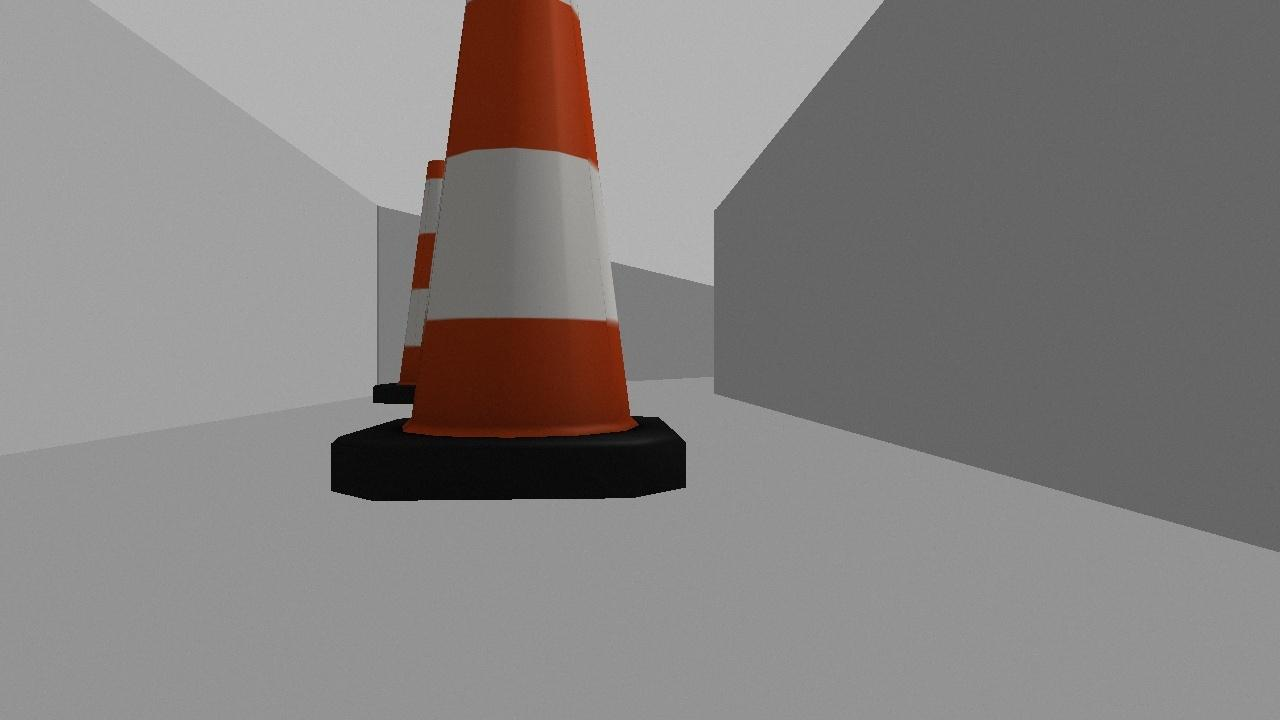cone_barrel: (328, 0, 686, 500), (369, 158, 495, 404)
